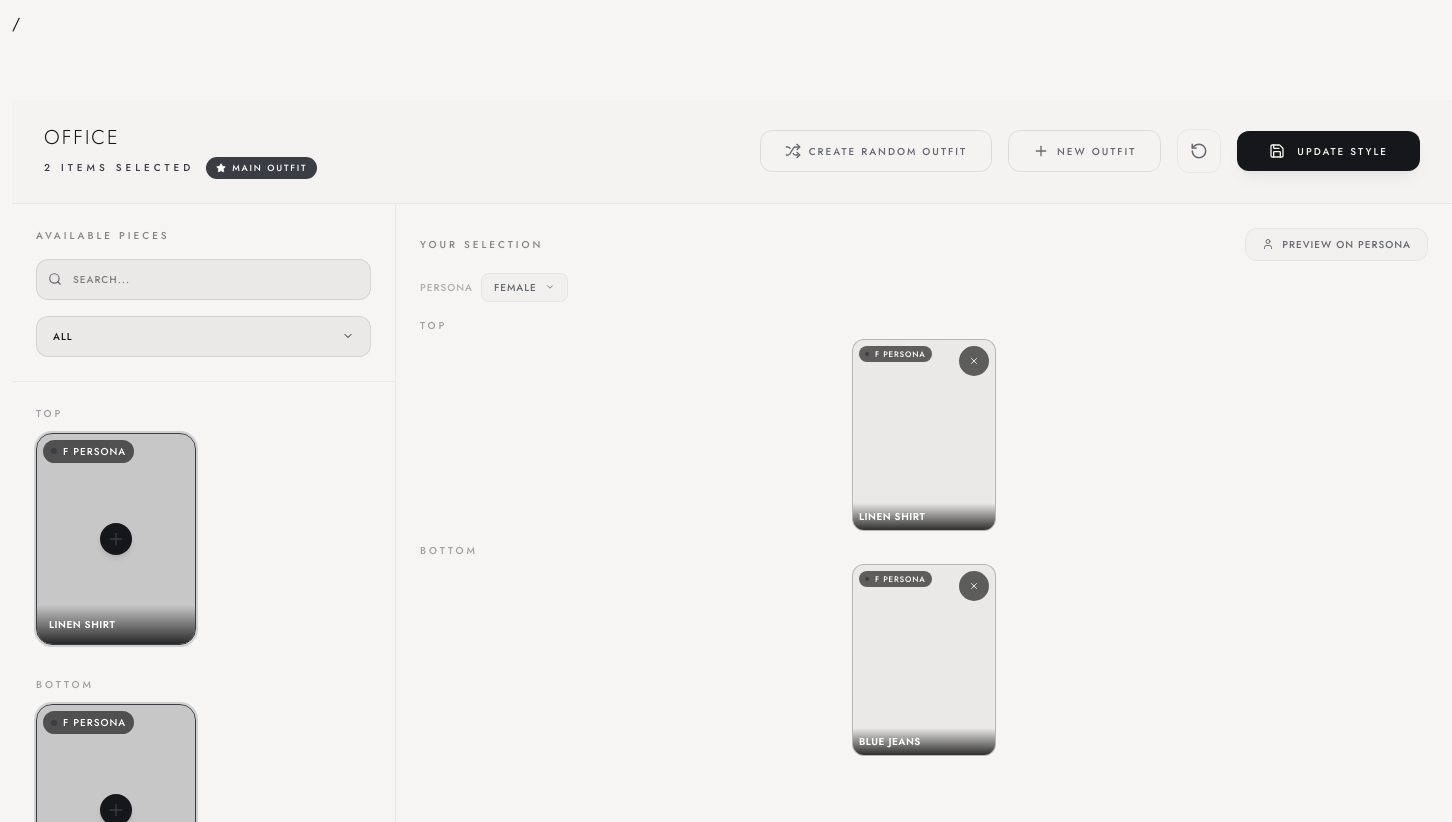
it: Attire and the main outfit › "New outfit" empties the page and goes to the new-outfit route, not back to the main outfit
expect the field with placeholder "ENTER STYLE NAME" holds "Office": met, box [44,124,317,153]
Click the button "New outfit". click: (1085, 151)
box: [1008,130,1161,172]
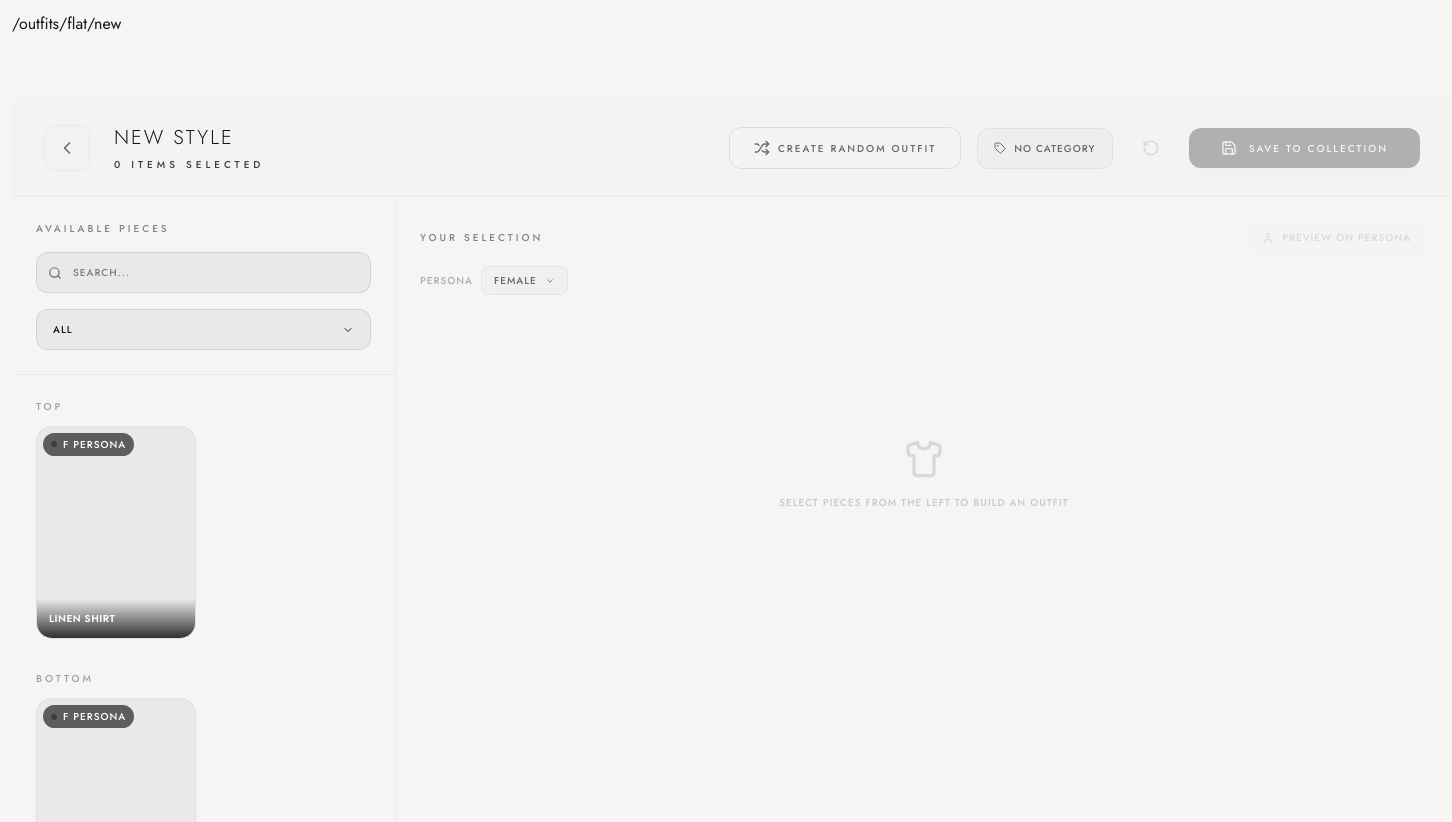
expect the text with test id "location" reads "/outfits/flat/new": met, box [12,12,121,35]
expect the field with placeholder "ENTER STYLE NAME" holds "New Style": met, box [114,124,355,153]
expect the button "SAVE TO COLLECTION" is shown: met, box [1189,128,1420,168]
